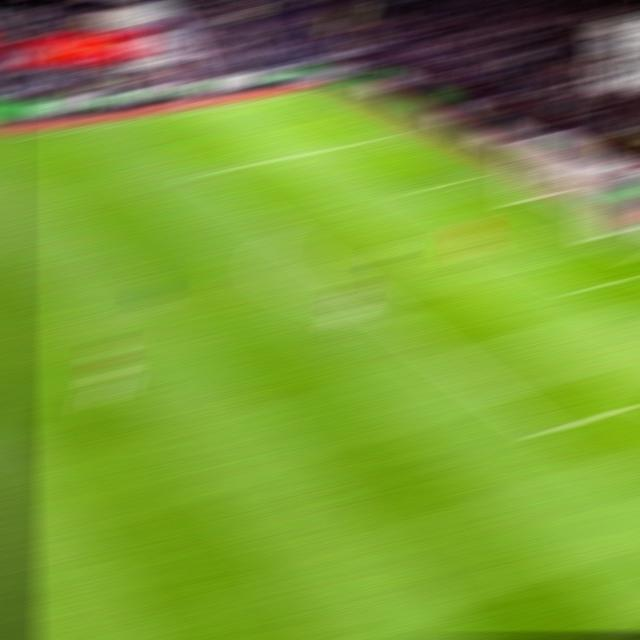bigarea_bottom_inner: (525, 418, 564, 442)
bigarea_top_inner: (185, 164, 219, 180)
bigarea_top_outter: (376, 129, 407, 141)
bottom_arc_area_intersection: (380, 312, 416, 328)
corner: (290, 88, 325, 96)
smallarea_bottom_inner: (562, 278, 599, 298)
smallarea_top_inner: (393, 184, 426, 198)
smallarea_top_outter: (455, 170, 488, 182)
top_arc_area_intersection: (263, 224, 296, 237)
